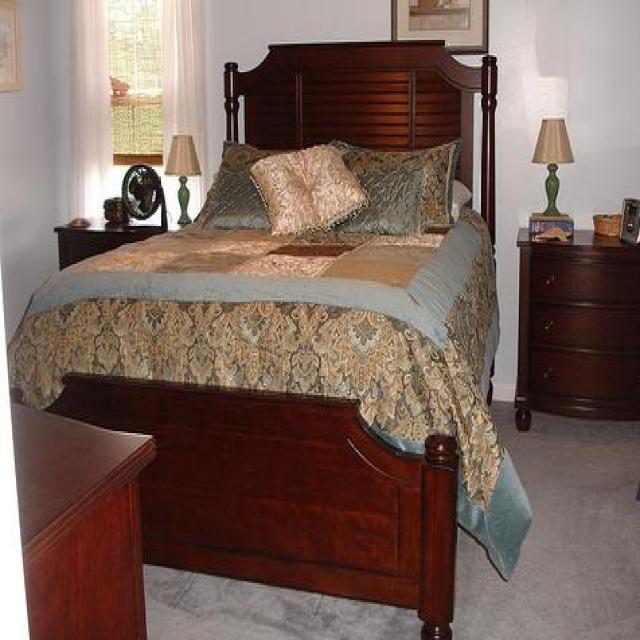bed: (13, 37, 499, 640)
